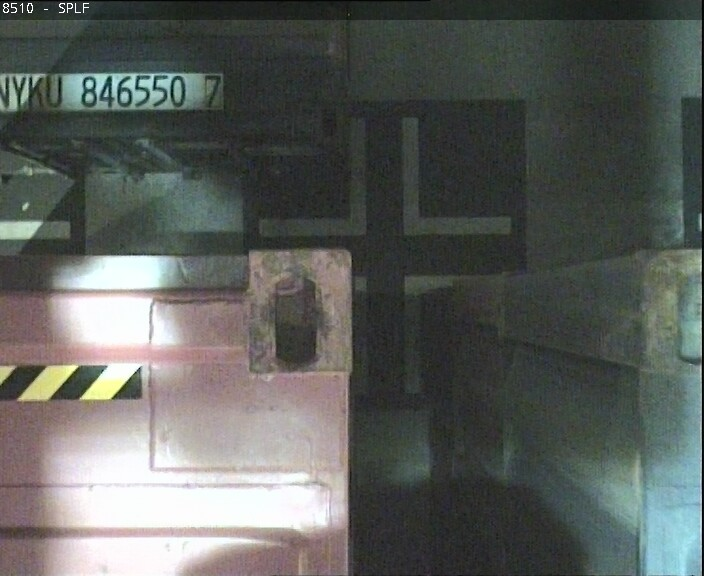groundmarker_1: (259, 121, 513, 237)
